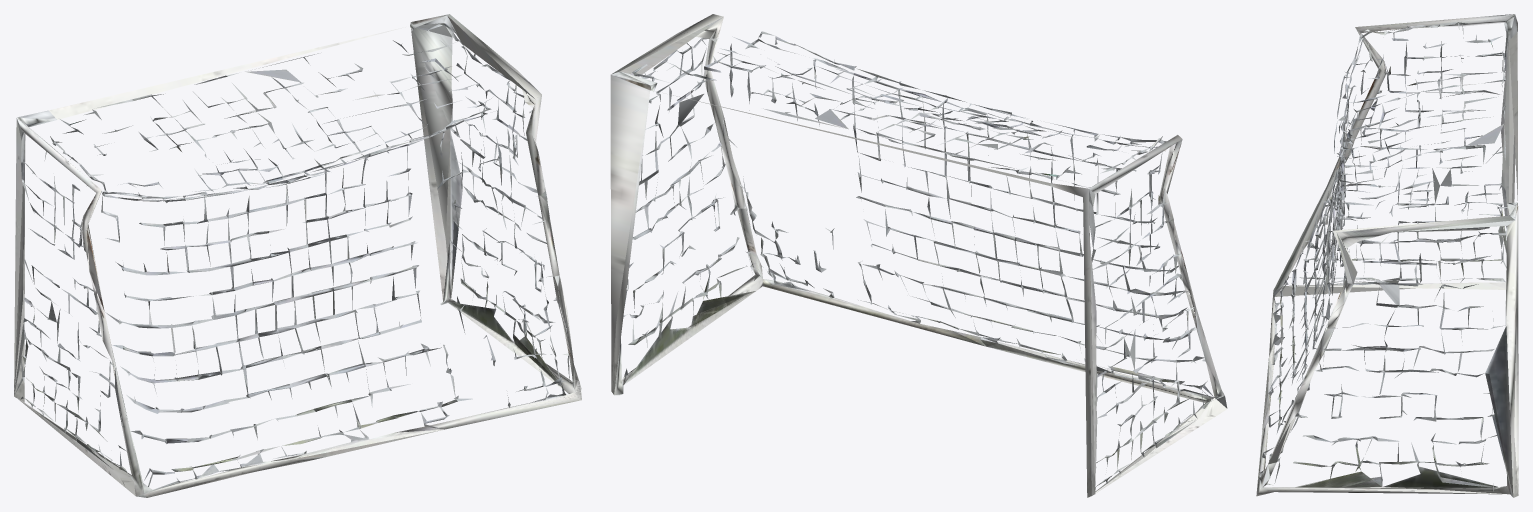
Rendered from fv_goal.lod1.glb.
3 renders of one model, left to right at view 1: azimuth 30°, elevation 25°; view 2: azimuth 150°, elevation 25°; view 3: azimuth 270°, elevation 25°, orthographic. The views are drawn at different scales.
Visible parts, largest first — view 1: fv_goal; view 2: fv_goal; view 3: fv_goal.
Boxes of the visible parts, x1,y1,x2,y2 form: fv_goal: (14, 14, 581, 497); fv_goal: (610, 14, 1227, 497); fv_goal: (1256, 14, 1518, 497).
Size of the model in its own units: 3.02 by 1.9 by 1.61.
1 material, 1 textured.
